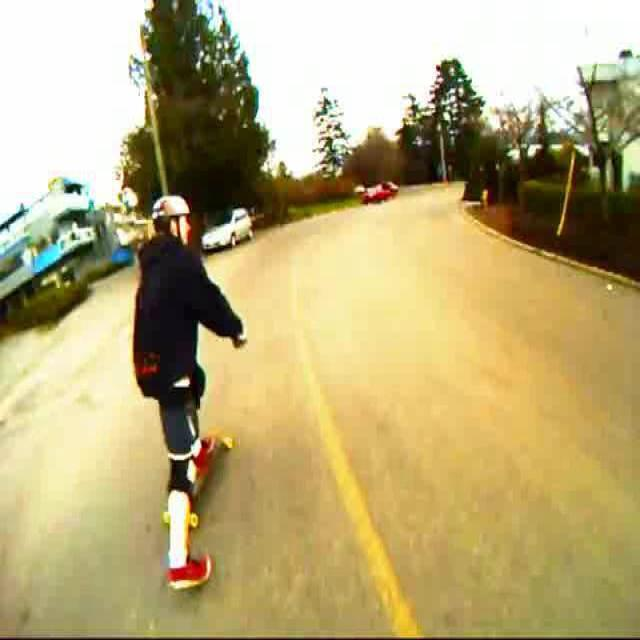other: (138, 415, 250, 608), (317, 440, 431, 620), (356, 177, 414, 208)
